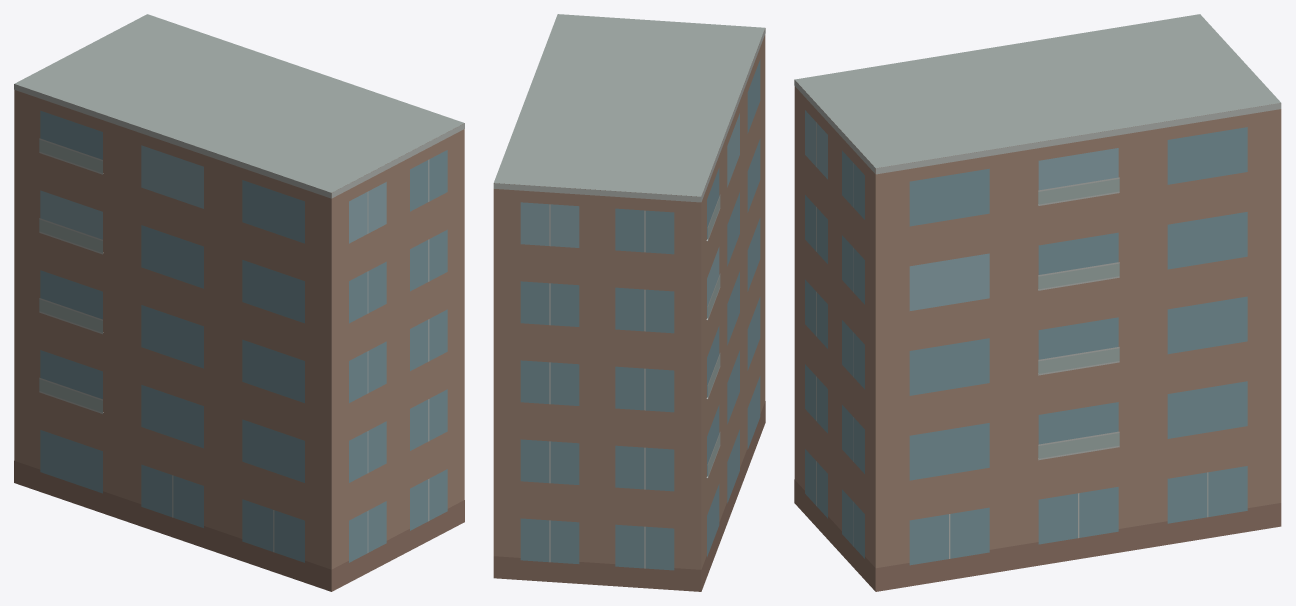
File: survey-upis-33028015.glb
3 renders of one model, left to right at view 1: azimuth 30°, elevation 25°; view 2: azimuth 150°, elevation 25°; view 3: azimuth 270°, elevation 25°, orthographic. The views are drawn at different scales.
Parts seen in each view (by area): view 1: survey-upis-33028015.tmp; view 2: survey-upis-33028015.tmp; view 3: survey-upis-33028015.tmp.
Boxes of the visible parts, x1,y1,x2,y2 form: survey-upis-33028015.tmp: [14, 14, 464, 591]; survey-upis-33028015.tmp: [493, 14, 765, 591]; survey-upis-33028015.tmp: [794, 14, 1281, 591].
Bounding box in the file's own units: 13.1 × 16.75 × 17.46.
